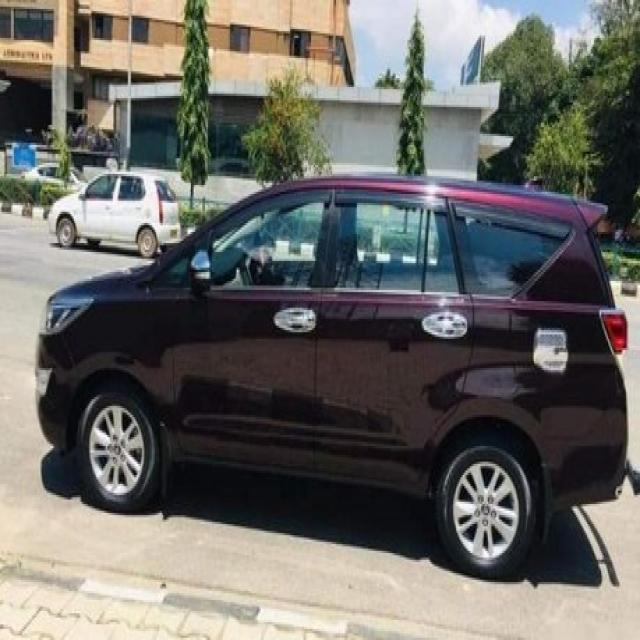light_vehicle: (34, 174, 632, 580)
